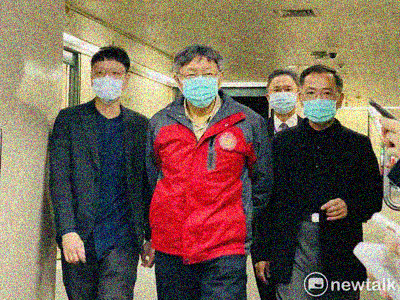with_mask: (179, 65, 221, 109), (300, 86, 341, 125), (91, 64, 126, 106), (268, 82, 300, 115)
